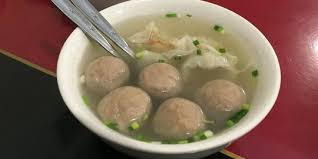bakso: (84, 48, 264, 144)
